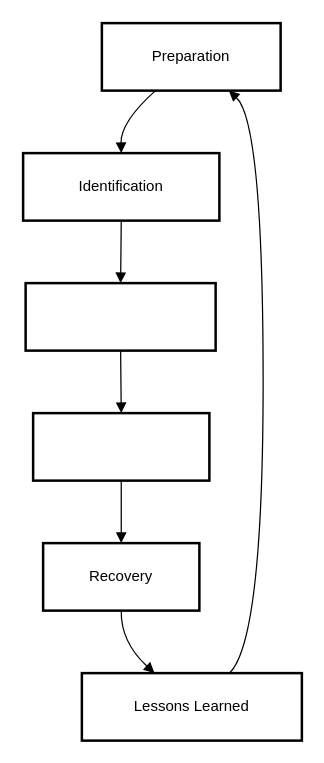
Image size: 324x763. Some labels were removed from this diagram. The box of each missing label's shape, as (x1, y1, x2, y2) in pixels:
Containment: (24, 281, 216, 351)
Eradication: (31, 411, 210, 481)
